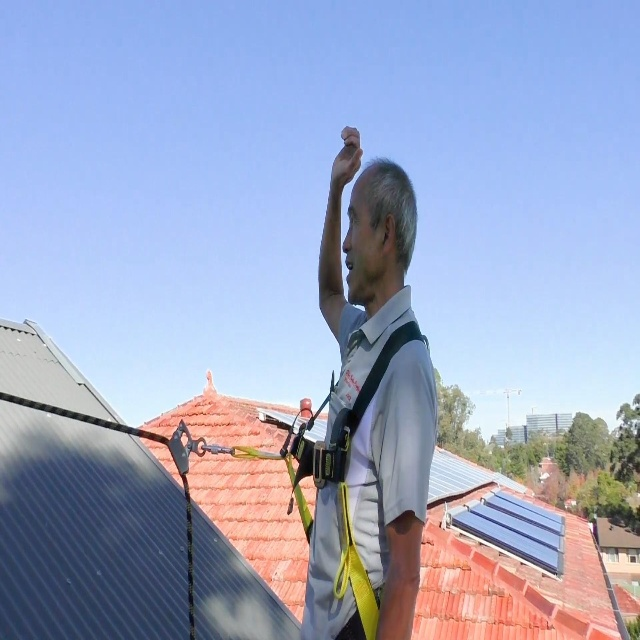Arnes_seguridad: (265, 296, 426, 640)
